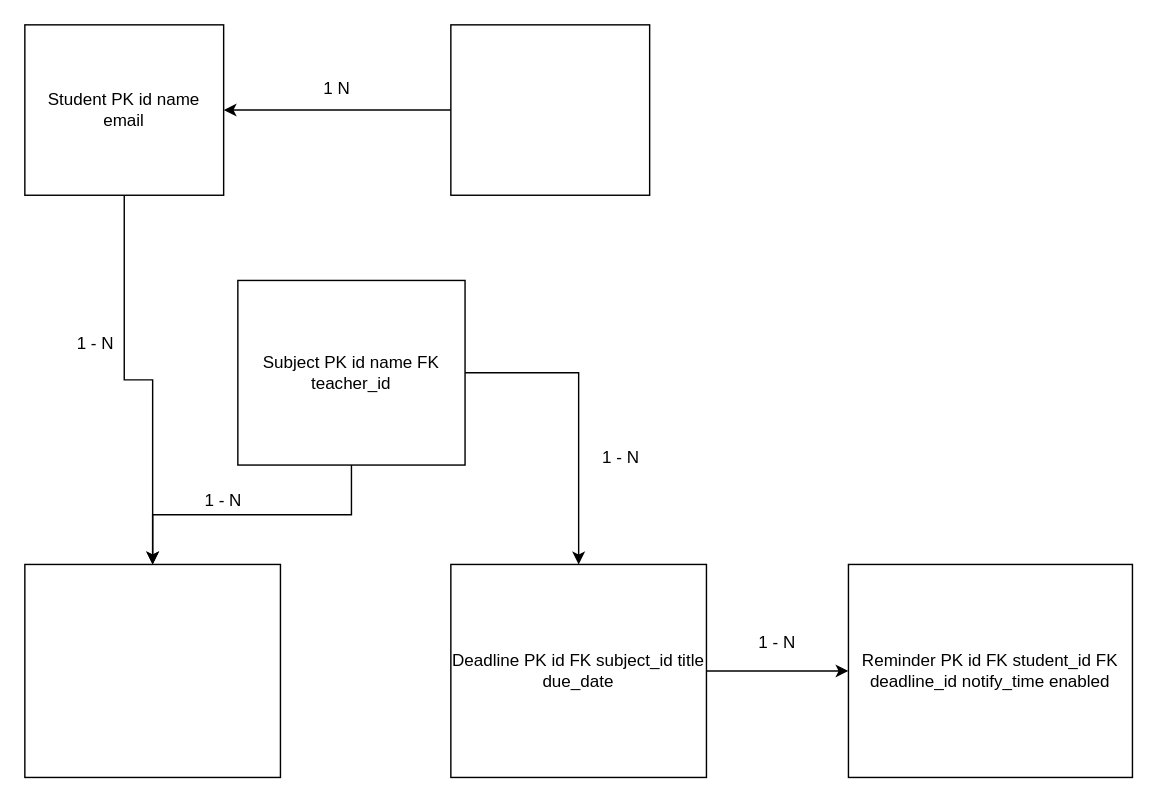
Image size: 1157x802. Some labels were removed from this diagram. The centre of each missing label's shape, as x and y in pixels:
"Grade PK id FK student_id FK subject_id grade date" belongs at (151,670).
"Teacher PK id name email" belongs at (549,109).
